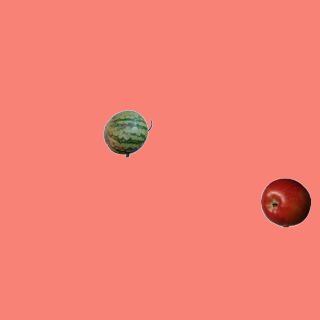Apple Braeburn: (260, 177, 310, 227)
Watermelon: (102, 108, 152, 158)
